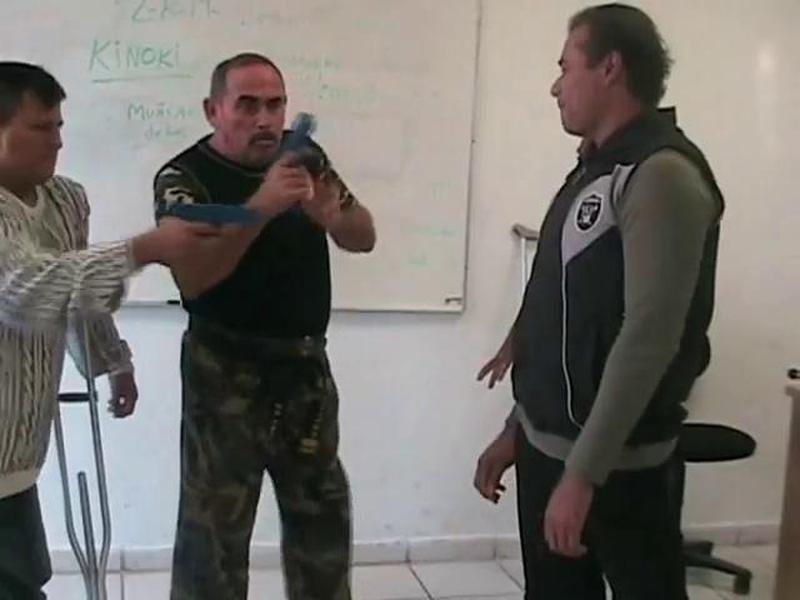Pistola: (163, 191, 273, 254)
